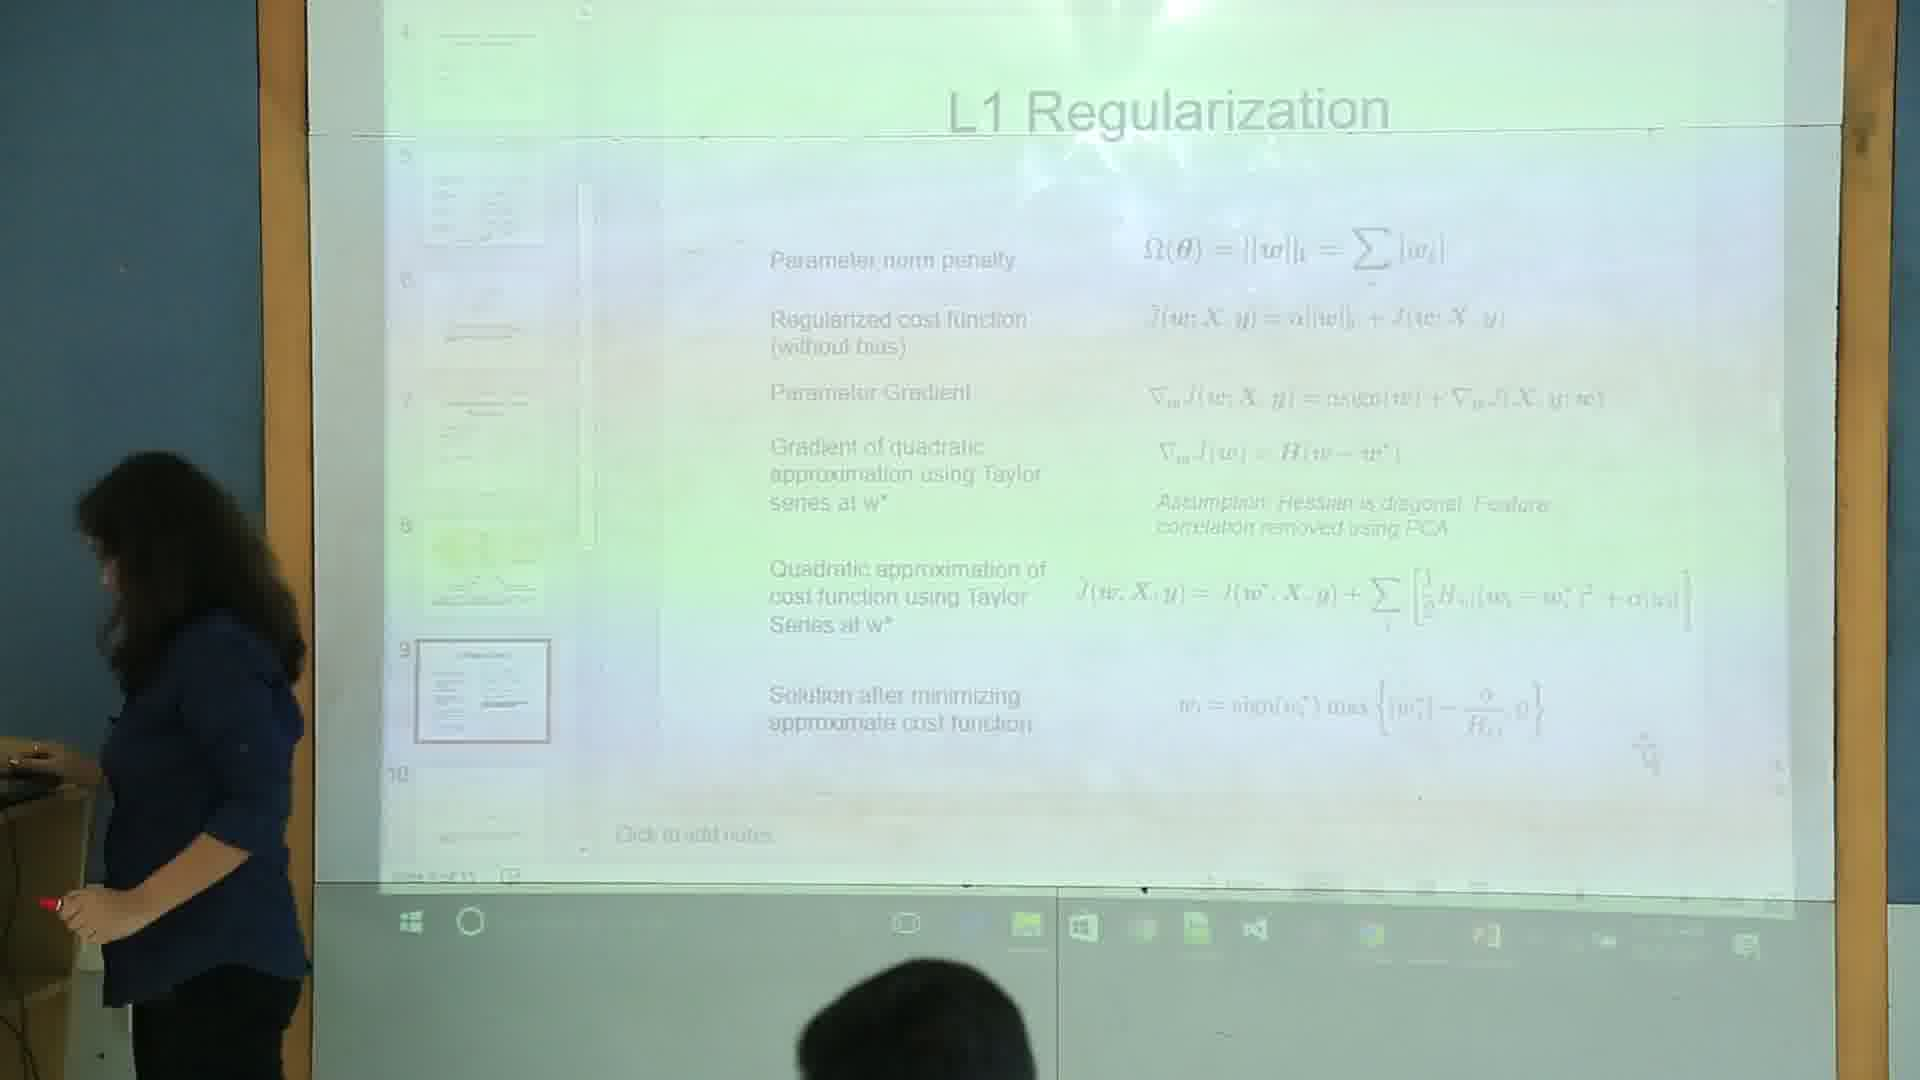eq: (1068, 560, 1702, 638), (1174, 673, 1549, 746), (1142, 371, 1614, 419), (1131, 220, 1455, 287), (1142, 298, 1516, 338), (1153, 433, 1408, 475)
